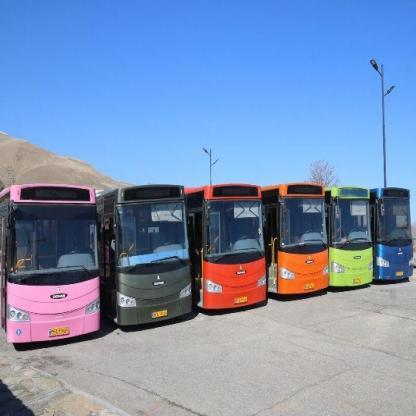Bus: (0, 191, 107, 341), (100, 177, 200, 323), (189, 180, 276, 312), (262, 188, 334, 307), (317, 183, 380, 288), (370, 181, 416, 282)
